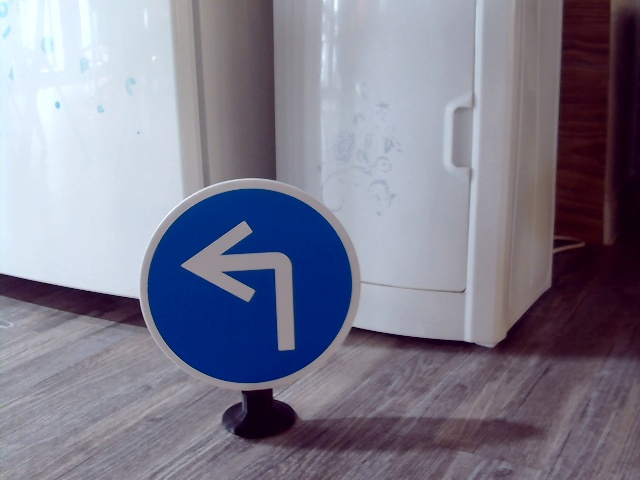turn_left: (179, 214, 303, 351)
